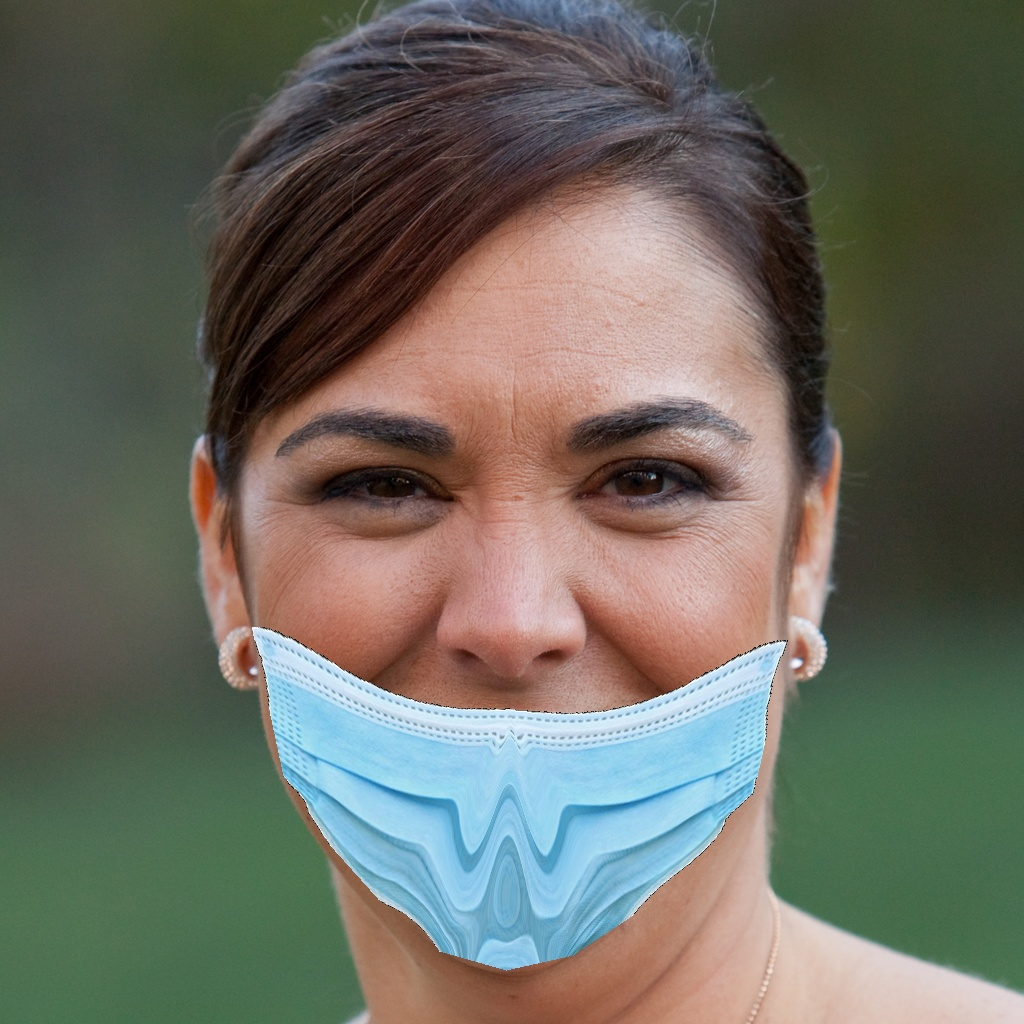mascarilla_mal_puesta: (209, 420, 854, 995)
